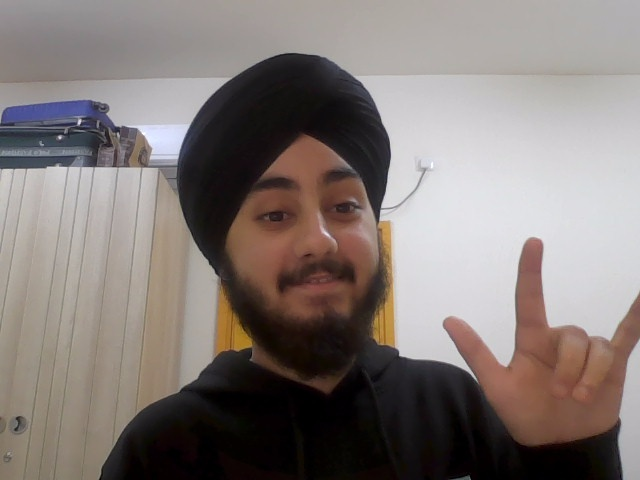ILoveYou: (440, 225, 640, 445)
